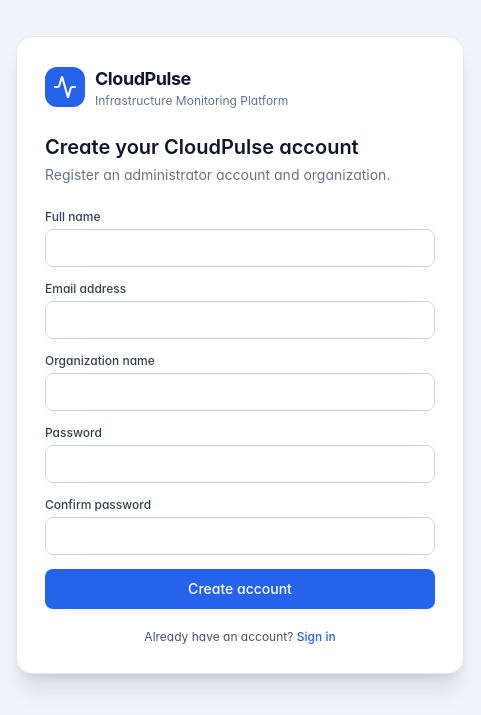
Scenario: CloudPulse Frontend Suite (PRD Section 32.3) › validates Registration password complexity and confirmation match
Type "Jane DevOps" into the field labelled "Full name" at (240,248), box left=45, top=229, right=435, bottom=267
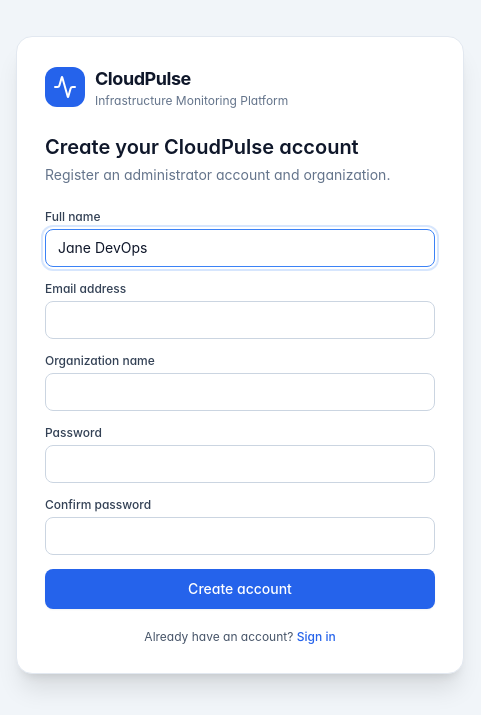
Type "jane@example.com" into the field labelled "Email address" at (240,320), box left=45, top=301, right=435, bottom=339
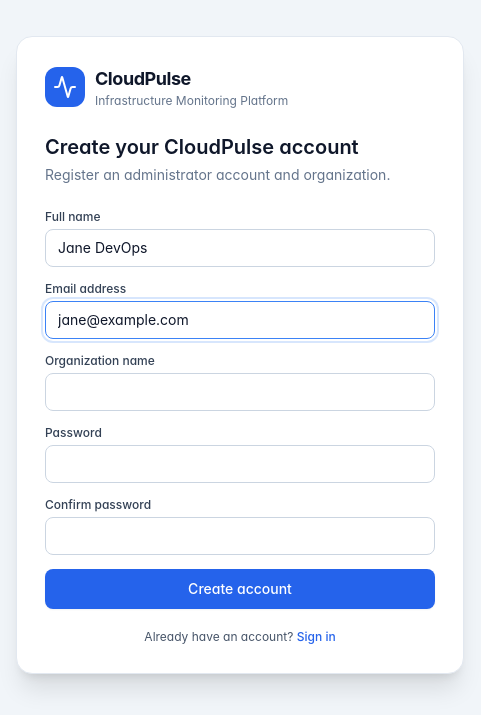
Type "Acme Ops" into the field labelled "Organization name" at (240,392), box left=45, top=373, right=435, bottom=411
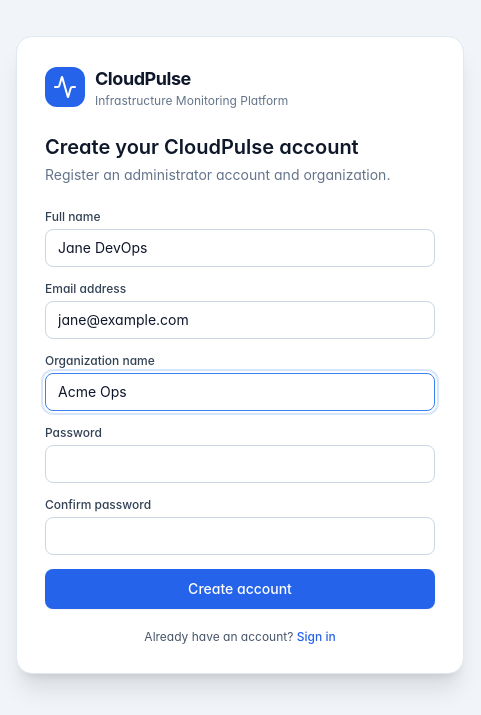
Type "weak" into the password field labelled "Password" at (240,464), box left=45, top=445, right=435, bottom=483
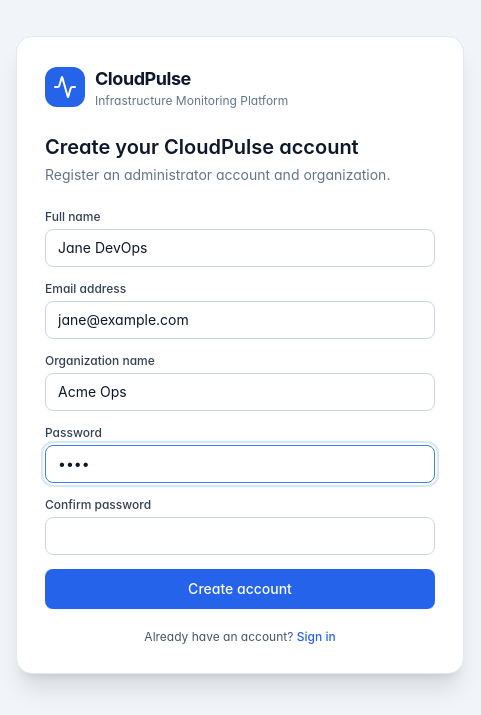
Type "different" into the password field labelled "Confirm password" at (240,536), box left=45, top=517, right=435, bottom=555
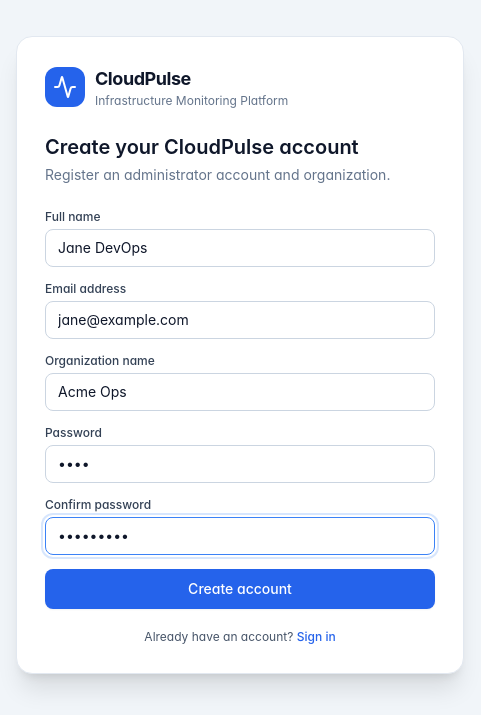
Click the button "Create account" at (240,589), box left=45, top=569, right=435, bottom=609
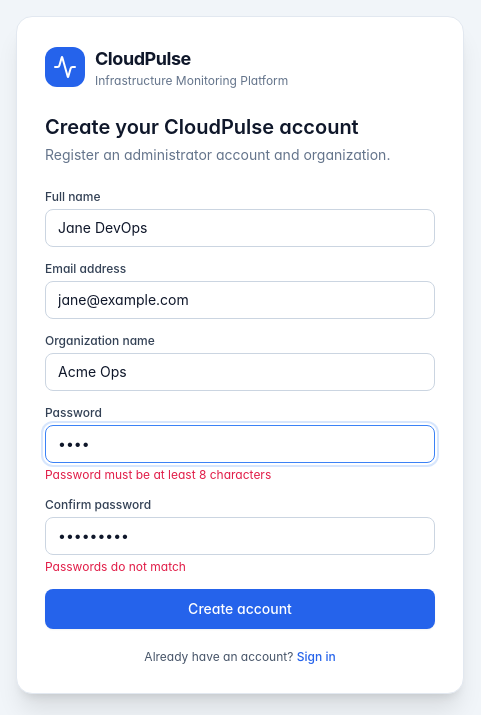
Expected: the text "Password must be at least 8 characters" is shown, left=45, top=467, right=271, bottom=482
